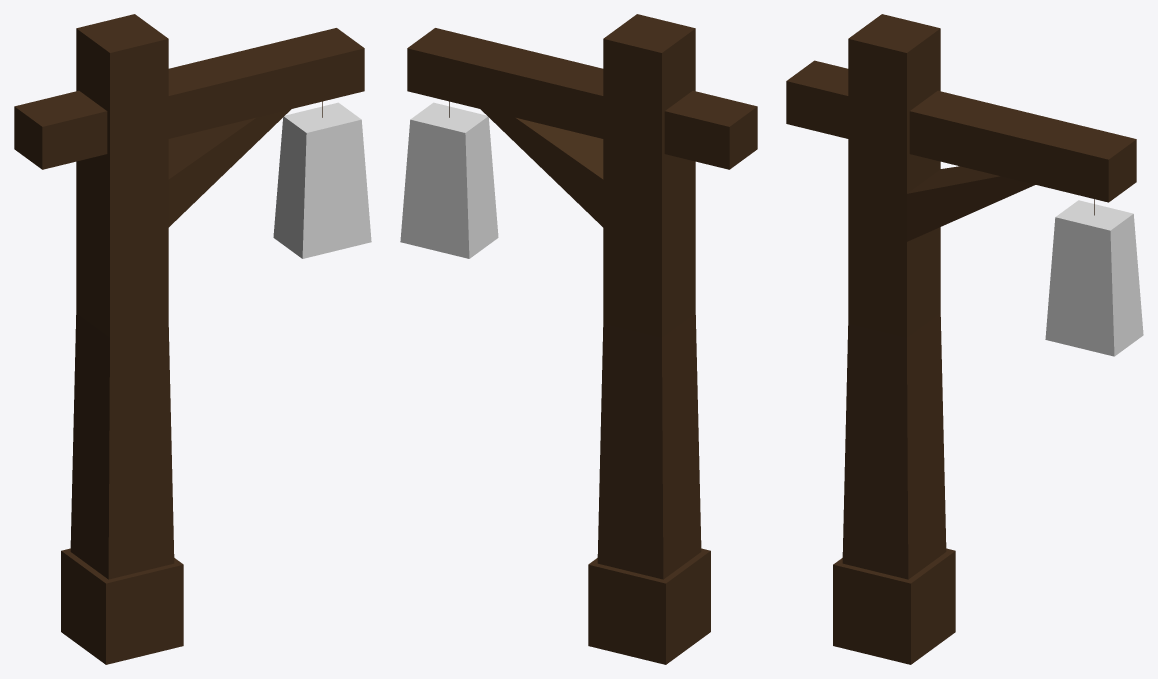
The model's file is Lamp.fbx.
3 renders of one model, left to right at view 1: azimuth 30°, elevation 25°; view 2: azimuth 150°, elevation 25°; view 3: azimuth 330°, elevation 25°, orthographic.
Visible parts, largest first — view 1: Cube; view 2: Cube; view 3: Cube.
Boxes of the visible parts, x1=… form: Cube: x1=14, y1=14, x2=371, y2=664; Cube: x1=400, y1=14, x2=757, y2=664; Cube: x1=786, y1=14, x2=1143, y2=664.
Size of the model in its own units: 238 by 419 by 56.33.
